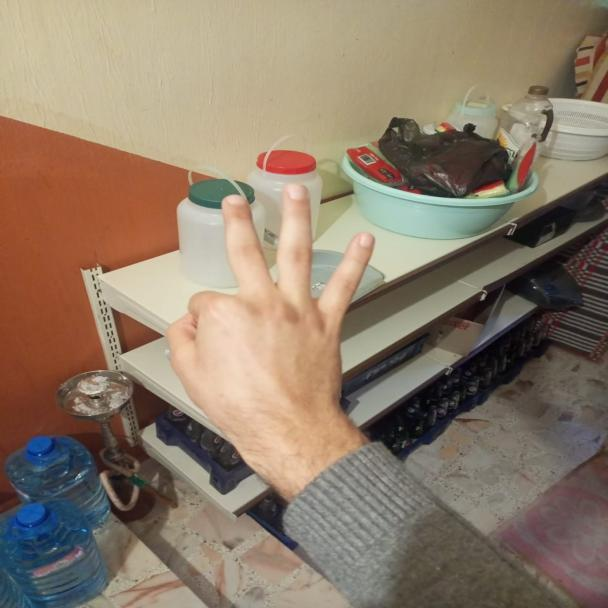five: (166, 186, 374, 470)
